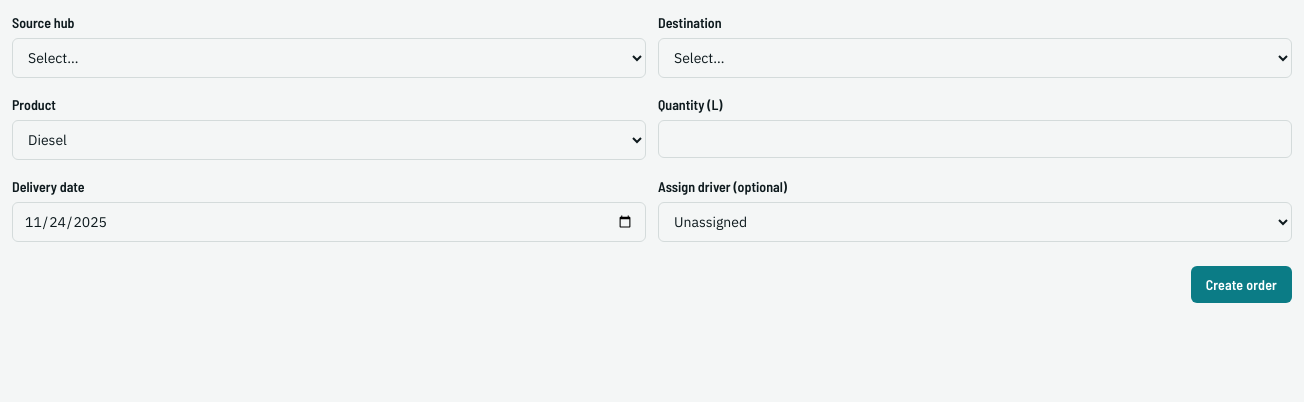
Scenario: OrderForm › warns when the source hub is short on stock
The width and height of the screenshot is (1304, 402).
Step 1. Select "Downtown" in the dropdown labelled "Source hub" → (329, 58), box [12, 38, 646, 78]
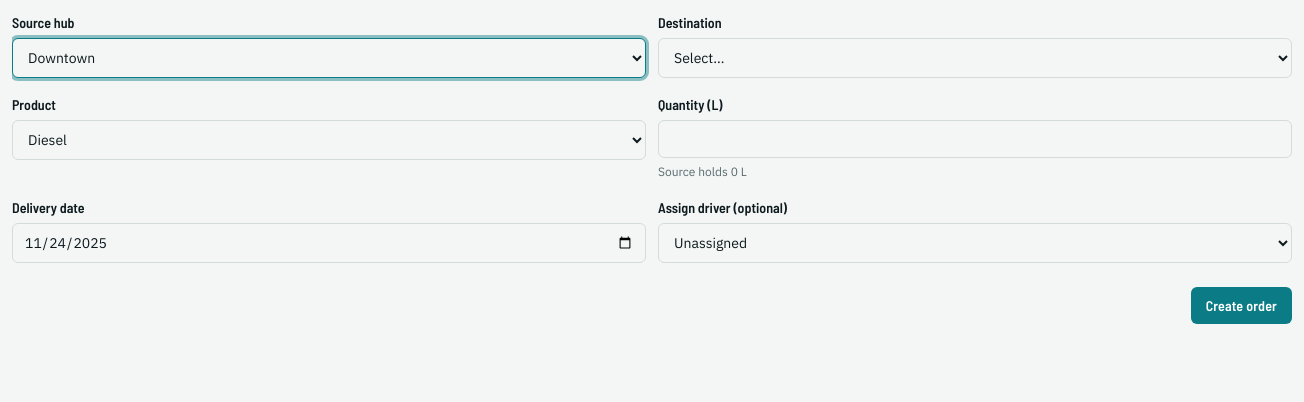
Step 2. Select "Diesel" in the dropdown labelled "Product" → (329, 140), box [12, 120, 646, 160]
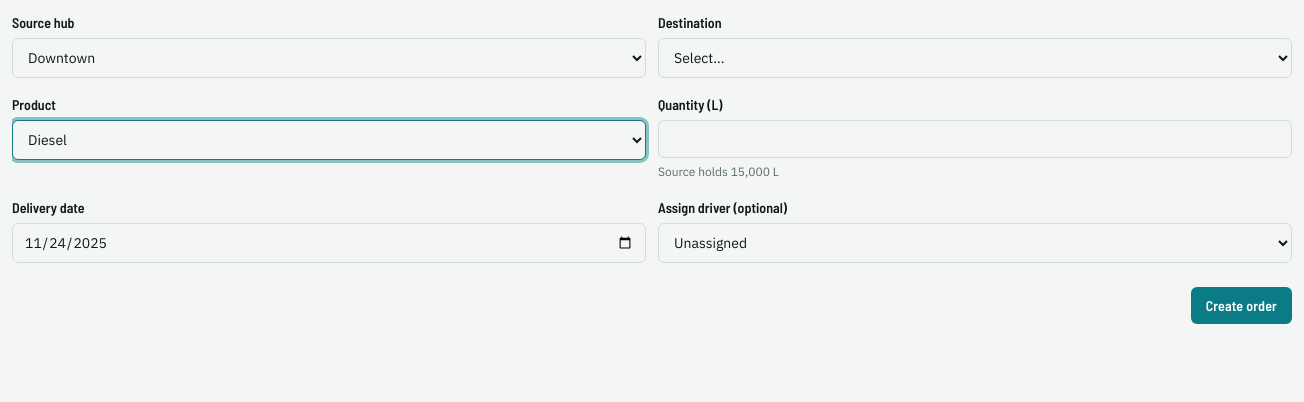
Step 3. Type "99000" into the number field labelled "Quantity (L) Source holds 15,000 L" → (975, 139), box [658, 120, 1292, 158]
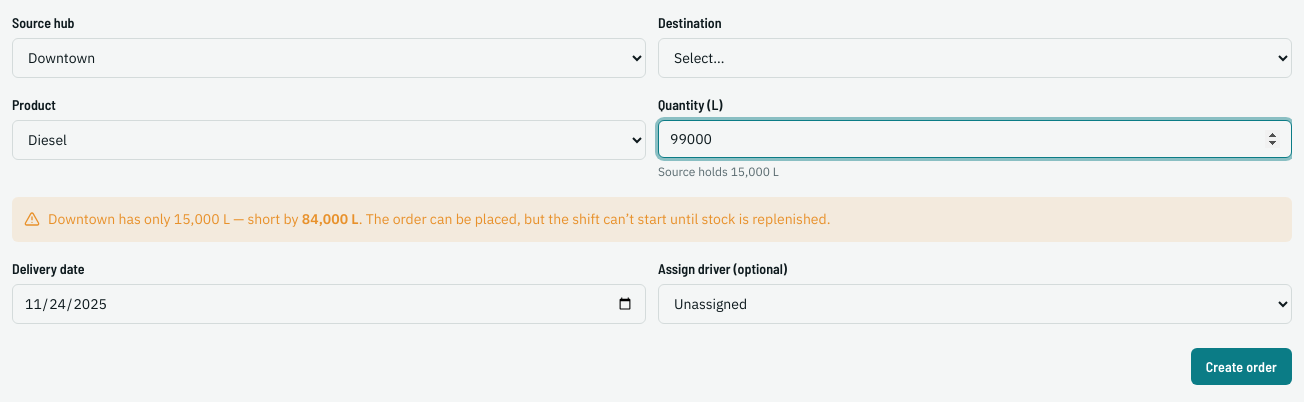
expect the text "short by" is shown: met, box [230, 210, 299, 228]
